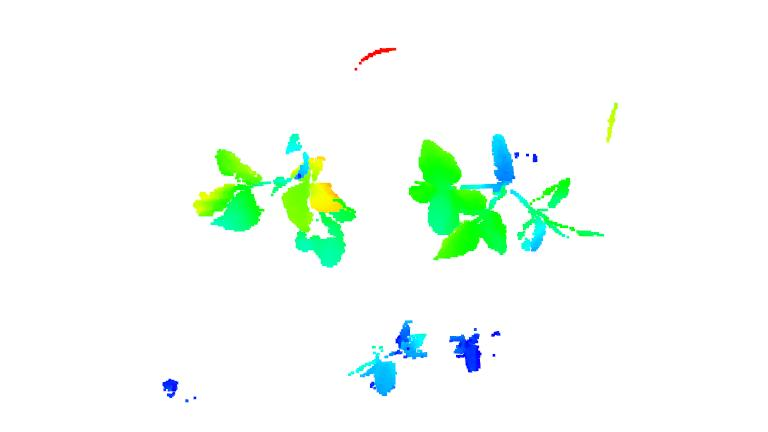mungbean: (410, 131, 613, 265), (188, 128, 365, 274), (360, 320, 429, 399)
